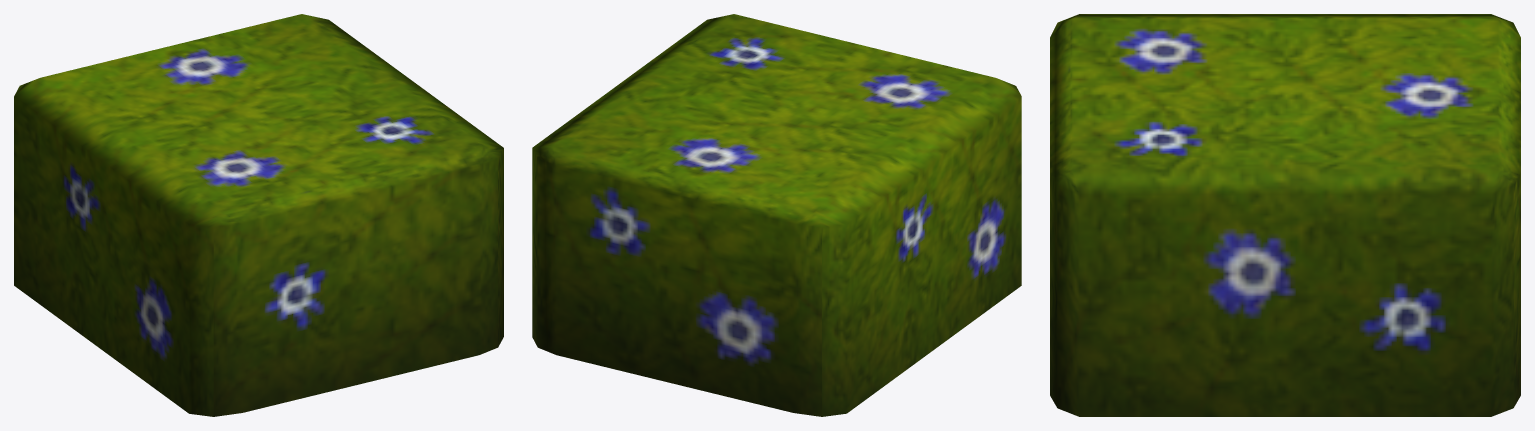
Rendered from Hedge_1c_atlas.fbx.
3 renders of one model, left to right at view 1: azimuth 30°, elevation 25°; view 2: azimuth 150°, elevation 25°; view 3: azimuth 270°, elevation 25°, orthographic. The views are drawn at different scales.
Visible parts, largest first — view 1: polySurface18; view 2: polySurface18; view 3: polySurface18.
Part boxes in pixels (box(x1,y1,x2,y2)): polySurface18: box(14, 14, 503, 416); polySurface18: box(532, 14, 1021, 416); polySurface18: box(1050, 14, 1520, 416).
Size of the model in its own units: 2.49 by 1.5 by 2.74.
